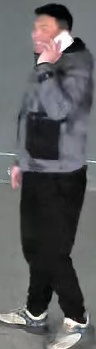phone: (23, 4, 89, 114)
